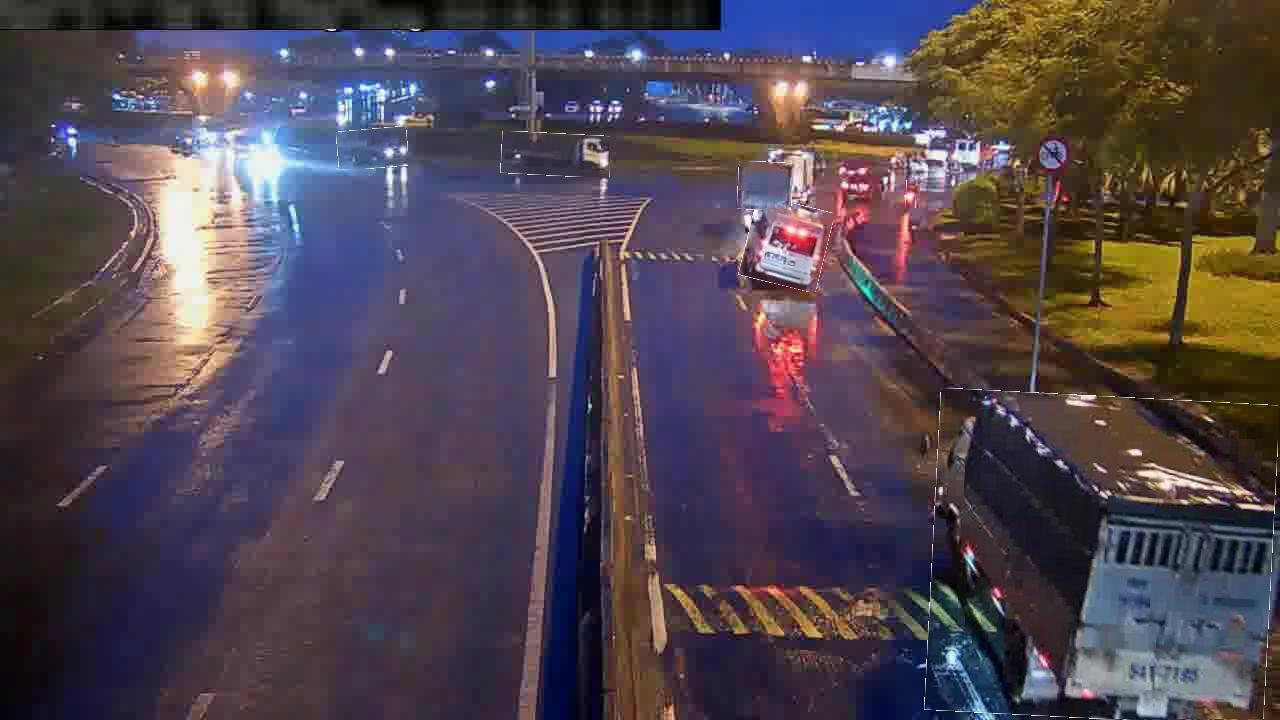14: (743, 199, 830, 289)
8: (928, 392, 1276, 719), (501, 133, 611, 177), (337, 128, 409, 169), (738, 162, 793, 210)
motorbike: (906, 179, 917, 209)
